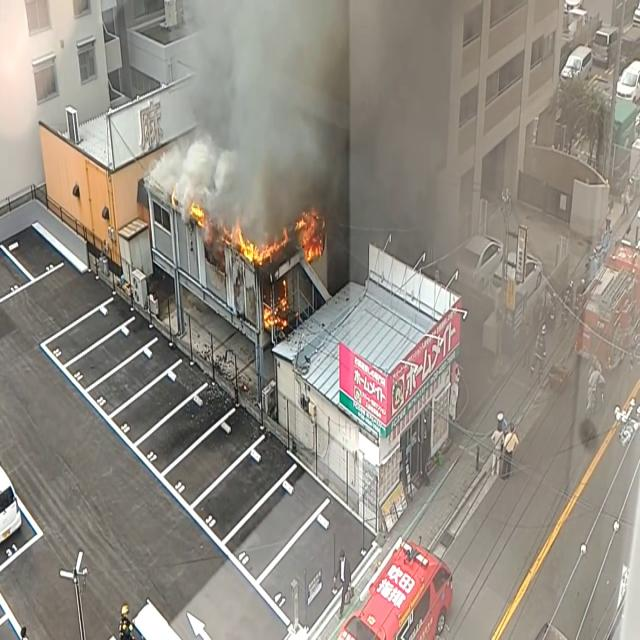Fire: (294, 202, 328, 268), (186, 198, 208, 232)
Smoke: (159, 0, 459, 250)
